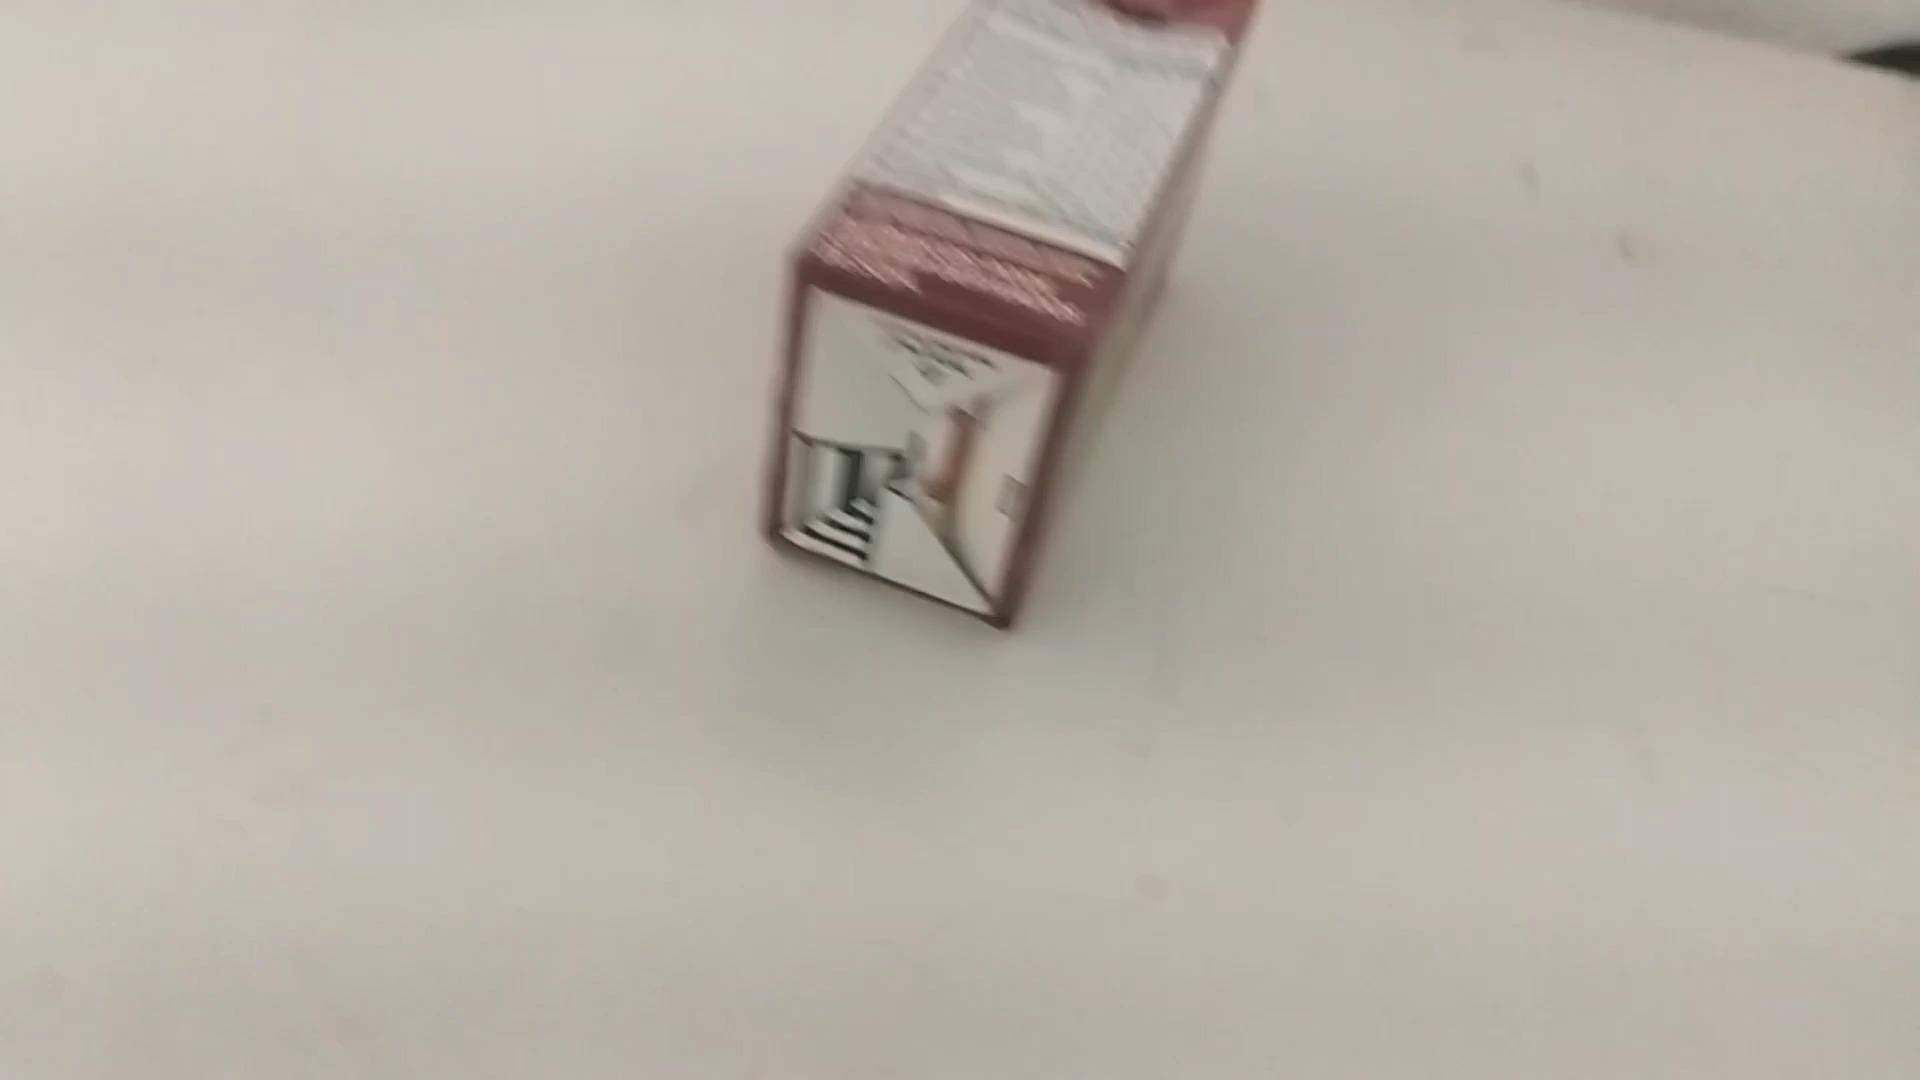tomate: (761, 5, 1261, 640)
